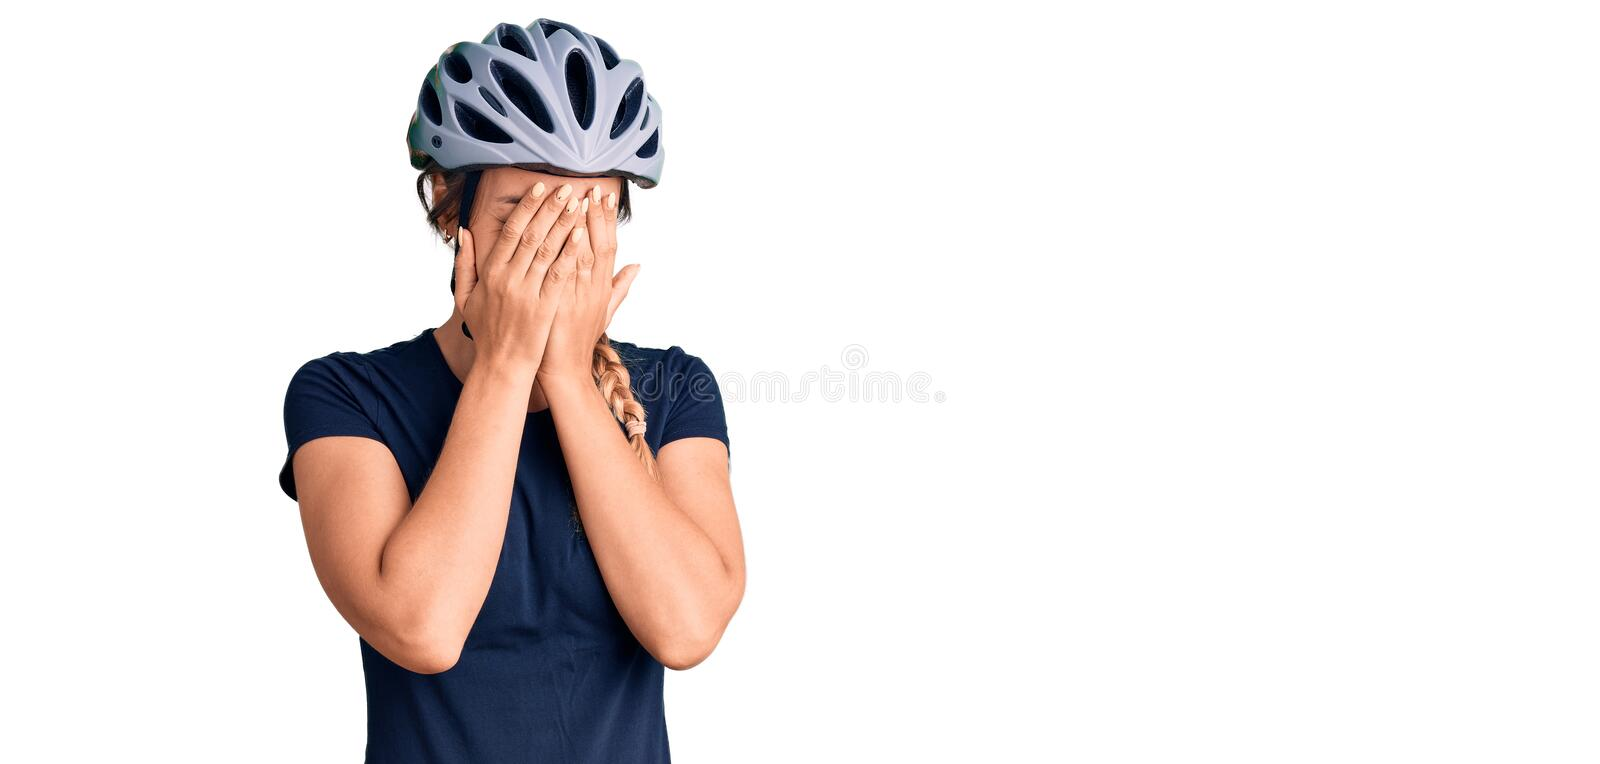helmet: (406, 19, 663, 345)
